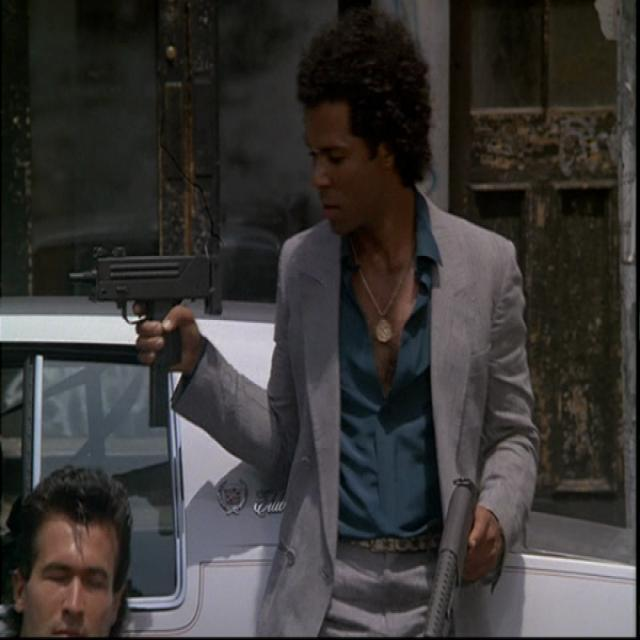weapons: (60, 234, 244, 411)
